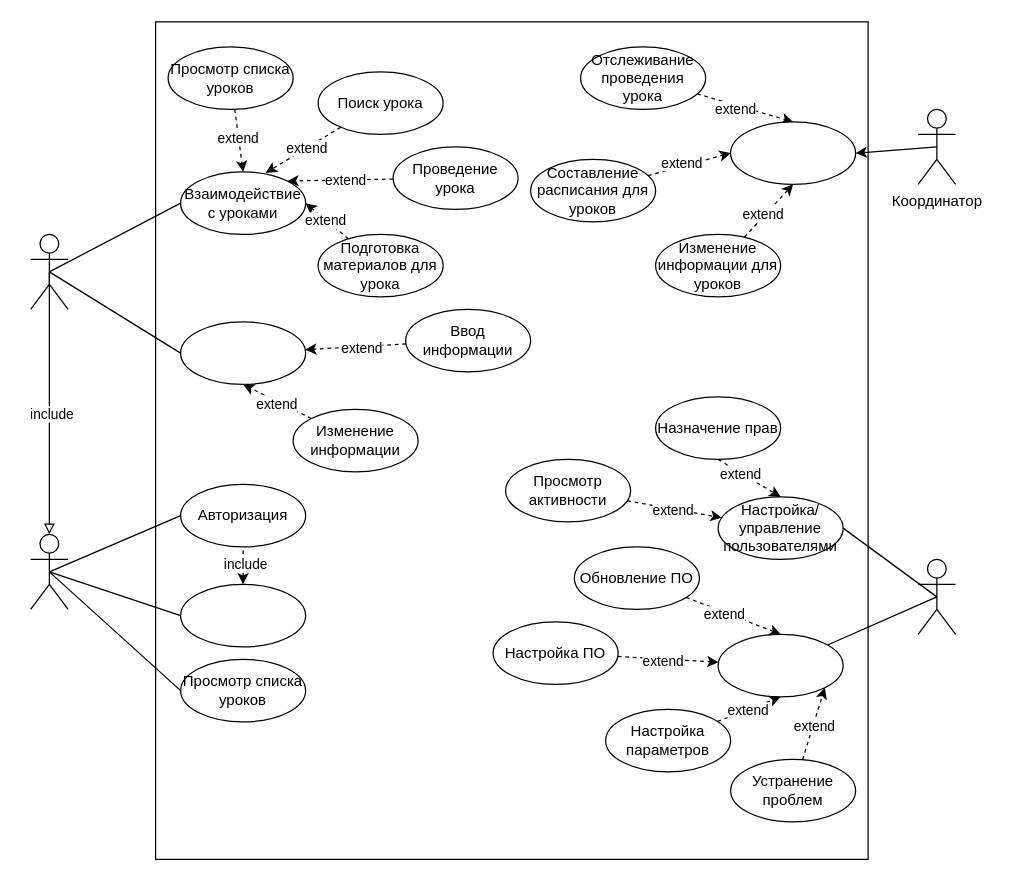
Image size: 1013x881. Some labels were removed from this diagram. The shapes that lost their labels are listed below. From the top down, each one's centre as x and y in pixels, then its label:
point (792, 152): Координирование
point (48, 271): Учитель
point (242, 352): Информация о себе
point (48, 571): Гость
point (242, 615): Регистрация
point (936, 596): Администратор
point (780, 665): Настройка системы
